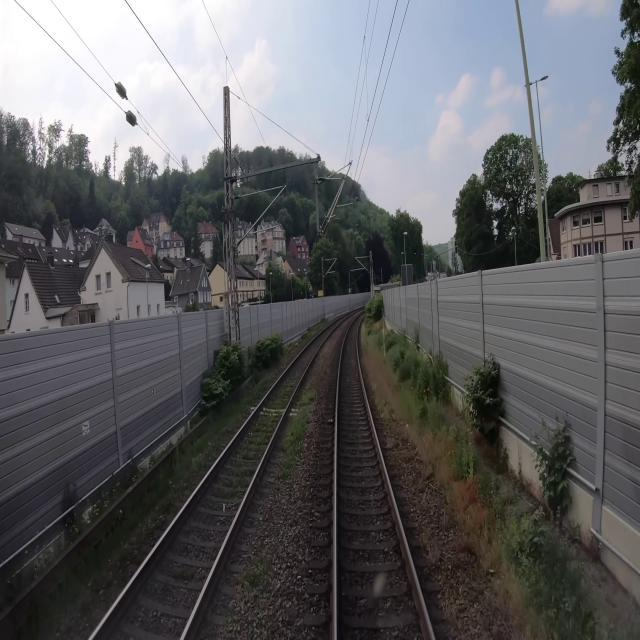Plant: (362, 301, 567, 639), (280, 408, 312, 477), (238, 552, 273, 588), (300, 385, 316, 406)
